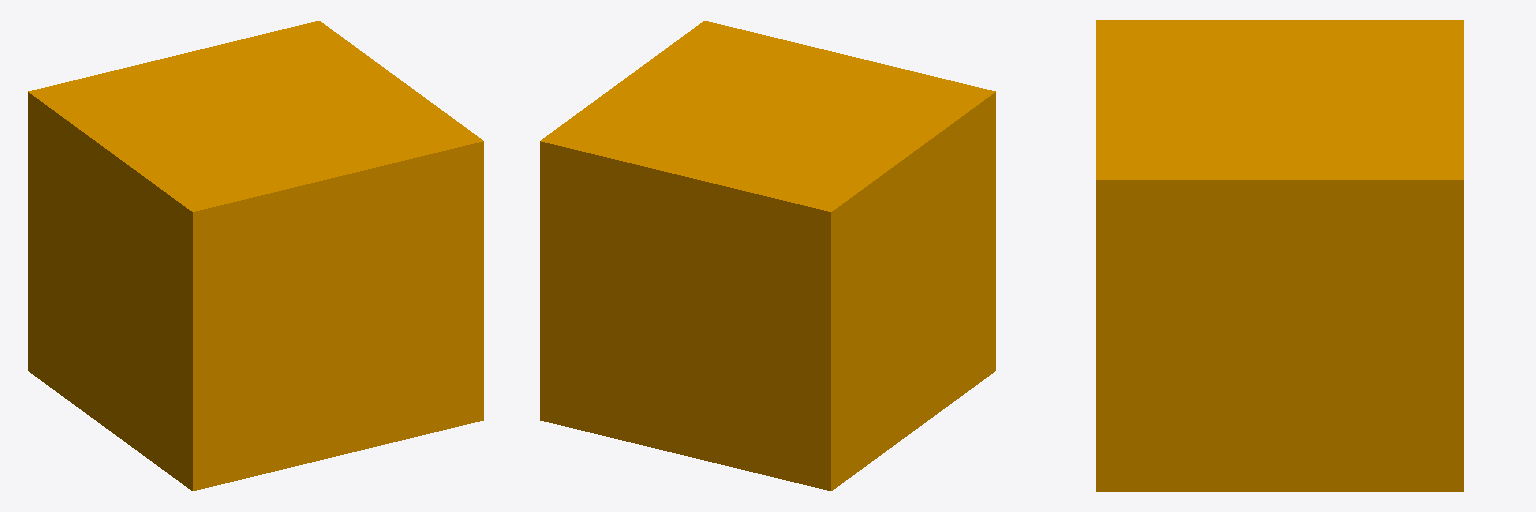
URDF robot description (simple_box):
<?xml version="1.0" encoding="utf-8"?>

<robot name="simple_box">
    <link name="my_box">
      <inertial>
        <origin xyz="3 1 0.0145"/>
        <mass value="0.1" />
        <inertia  ixx="0.0001" ixy="0.0"  ixz="0.0"  iyy="0.0001"  iyz="0.0"  izz="0.0001" />
      </inertial>
      <visual>
        <origin xyz="3 1 0.0145"/>
        <geometry>
          <box size="0.47 0.46 0.43"/>
        </geometry>
      </visual>
      <collision>
        <origin xyz="3 1 0.0145"/>
        <geometry>
          <box size="0.47 0.46 0.43"/>
        </geometry>
      </collision>
    </link>
    <gazebo reference="my_box">
      <material>Gazebo/Wood</material>
    </gazebo>
    <gazebo>
      <static>true</static>
    </gazebo>
  </robot>

--- Render facts (derived) ---
3 views of the same robot in one strip: view 1: azimuth 30°, elevation 25°; view 2: azimuth 150°, elevation 25°; view 3: azimuth 270°, elevation 25° (orthographic).
Model simple_box with 1 links and 0 joints (none), rooted at my_box, posed all joints at 0.
Visible links, largest first — view 1: my_box; view 2: my_box; view 3: my_box.
Link boxes in pixels (box(x1,y1,x2,y2)): my_box: box(28, 21, 483, 490); my_box: box(540, 21, 995, 490); my_box: box(1096, 20, 1463, 491).
Size in the robot's own frame: 0.47 by 0.46 by 0.43 metres.
Geometry: primitives only (box / cylinder / sphere), no mesh files.